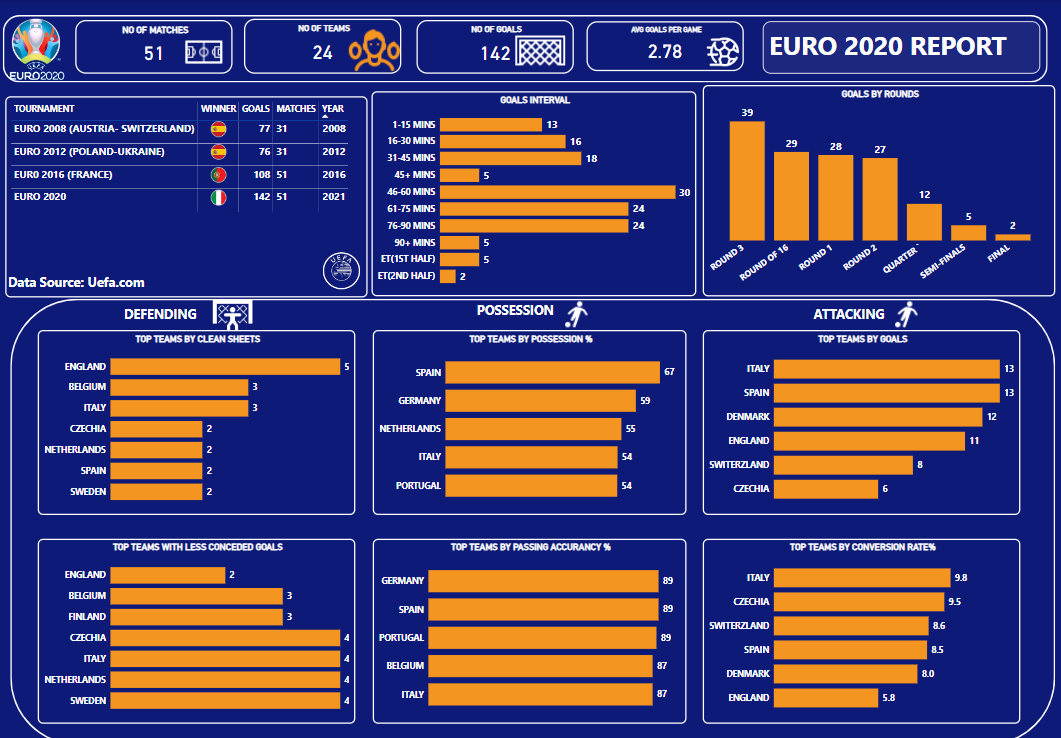

This screenshot's page, from the dashboard's own definition file:
{"tool":"powerbi","page":{"name":"DASHBOARD","canvas":[2000,1400],"ordinal":0},"visuals":[{"type":"shape","box":[7,28.2,1961.1,126.7],"z":0},{"type":"shape","box":[21.1,560.7,1961.1,837.5],"z":1000},{"type":"card","title":"NO OF MATCHES","fields":{"Values":["Count(MATCHES.MATCH ID)"]},"box":[143.1,37.5,295.6,100.9],"z":2000},{"type":"card","title":"NO OF TEAMS","fields":{"Values":["CountNonNull(TEAMS.TEAMS)"]},"box":[459.8,35.2,295.6,103.2],"z":3000},{"type":"card","title":"NO OF GOALS","fields":{"Values":["Sum(MATCHES.GOALS SCORED)"]},"box":[783.5,37.5,295.6,100.9],"z":4000},{"type":"card","title":"AVG  GOALS PER GAME","fields":{"Values":["Avg(MATCHES.GOALS SCORED)"]},"box":[1102.6,39.9,295.6,93.8],"z":5000},{"type":"tableEx","fields":{"Values":["HISTORICAL DATA.TOURNAMENT ","HISTORICAL DATA.WINNER URL","Sum(HISTORICAL DATA.GOALS SCORED)","Sum(HISTORICAL DATA.MATCHES PLAYED)","Sum(HISTORICAL DATA.YEAR)"]},"box":[11.7,181.4,680.3,377.7],"z":6000},{"type":"clusteredBarChart","title":" GOALS INTERVAL","fields":{"Category":["GOALS INTERVAL.INTERVAL"],"Y":["Sum(GOALS INTERVAL.GOALS)"]},"box":[698.3,171.2,609.9,384.7],"z":7000},{"type":"columnChart","title":" GOALS BY ROUNDS","fields":{"Category":["MATCHES.ROUND "],"Y":["Sum(MATCHES.GOALS SCORED)"]},"box":[1320.7,159.5,661.5,396.4],"z":8000},{"type":"clusteredBarChart","title":"TOP TEAMS BY CLEAN SHEETS ","fields":{"Category":["CLEAN SHEET AND GOALS CONCEDED.Countries"],"Y":["Sum(CLEAN SHEET AND GOALS CONCEDED.Clean sheets)"]},"box":[73.6,619.1,595.8,347.2],"z":9000},{"type":"clusteredBarChart","title":"TOP TEAMS WITH LESS CONCEDED GOALS","fields":{"Category":["CLEAN SHEET AND GOALS CONCEDED.Countries"],"Y":["Sum(CLEAN SHEET AND GOALS CONCEDED.Goals conceded)"]},"box":[73.5,1011.1,595.8,347.2],"z":10000},{"type":"clusteredBarChart","title":"TOP TEAMS BY POSSESSION %","fields":{"Category":["Possession.Team"],"Y":["Sum(Possession.Possession)"]},"box":[702.2,619.3,588.8,347.2],"z":11000},{"type":"clusteredBarChart","title":"TOP TEAMS BY PASSING ACCURANCY %","fields":{"Category":["Possession.Team"],"Y":["Sum(Possession.Passing accuracy (%))"]},"box":[702.2,1011.1,588.8,347.2],"z":12000},{"type":"clusteredBarChart","title":"TOP TEAMS BY GOALS","fields":{"Y":["Sum(ATTEMPTS.Goals)"],"Category":["ATTEMPTS.Countries"]},"box":[1321.5,619.3,595.8,347.2],"z":13000},{"type":"clusteredBarChart","title":"TOP TEAMS BY CONVERSION RATE%","fields":{"Category":["ATTEMPTS.Countries"],"Y":["Sum(ATTEMPTS.Conversion Rate)"]},"box":[1321.5,1011.1,595.8,347.2],"z":14000},{"type":"textbox","box":[152.5,567.7,300.3,51.6],"z":15000},{"type":"textbox","box":[818.7,560.7,300.3,51.6],"z":16000},{"type":"textbox","box":[1445,567.7,300.3,51.6],"z":17000},{"type":"image","box":[0,28.2,143.1,131.4],"z":18000},{"type":"textbox","box":[1433.3,39.9,520.8,98.5],"z":19000},{"type":"image","box":[964.1,37.5,103.2,114.9],"z":20000},{"type":"image","box":[344.8,49.3,79.8,96.2],"z":21000},{"type":"image","box":[647.5,32.8,114.9,122],"z":22000},{"type":"image","box":[1323.1,58.6,77.4,77.4],"z":23000},{"type":"image","box":[558.3,422.3,168.9,171.2],"z":24000},{"type":"textbox","box":[11.7,509.1,520.8,44.6],"z":25000},{"type":"image","box":[1665.6,560.7,72.7,58.6],"z":26000},{"type":"image","box":[1046.3,560.7,72.7,58.6],"z":27000},{"type":"image","box":[396.4,548.9,84.5,84.5],"z":28000}]}

Visuals, with their boxes in screenshot pixels (x1, y1, x2, y2), scaled from the page's 2000x1400 canvas onto the 1061x738 screenshot:
shape: [x1=4, y1=15, x2=1044, y2=82]
shape: [x1=11, y1=296, x2=1052, y2=737]
"NO OF MATCHES" card: [x1=76, y1=20, x2=233, y2=73]
"NO OF TEAMS" card: [x1=244, y1=19, x2=401, y2=73]
"NO OF GOALS" card: [x1=416, y1=20, x2=572, y2=73]
"AVG  GOALS PER GAME" card: [x1=585, y1=21, x2=742, y2=70]
tableEx - HISTORICAL DATA.TOURNAMENT  x HISTORICAL DATA.WINNER URL: [x1=6, y1=96, x2=367, y2=295]
" GOALS INTERVAL" clusteredBarChart: [x1=370, y1=90, x2=694, y2=293]
" GOALS BY ROUNDS" columnChart: [x1=701, y1=84, x2=1052, y2=293]
"TOP TEAMS BY CLEAN SHEETS " clusteredBarChart: [x1=39, y1=326, x2=355, y2=509]
"TOP TEAMS WITH LESS CONCEDED GOALS" clusteredBarChart: [x1=39, y1=533, x2=355, y2=716]
"TOP TEAMS BY POSSESSION %" clusteredBarChart: [x1=373, y1=326, x2=685, y2=509]
"TOP TEAMS BY PASSING ACCURANCY %" clusteredBarChart: [x1=373, y1=533, x2=685, y2=716]
"TOP TEAMS BY GOALS" clusteredBarChart: [x1=701, y1=326, x2=1017, y2=509]
"TOP TEAMS BY CONVERSION RATE%" clusteredBarChart: [x1=701, y1=533, x2=1017, y2=716]
textbox: [x1=81, y1=299, x2=240, y2=326]
textbox: [x1=434, y1=296, x2=594, y2=323]
textbox: [x1=767, y1=299, x2=926, y2=326]
image: [x1=0, y1=15, x2=76, y2=84]
textbox: [x1=760, y1=21, x2=1037, y2=73]
image: [x1=511, y1=20, x2=566, y2=80]
image: [x1=183, y1=26, x2=225, y2=77]
image: [x1=343, y1=17, x2=404, y2=82]
image: [x1=702, y1=31, x2=743, y2=72]
image: [x1=296, y1=223, x2=386, y2=313]
textbox: [x1=6, y1=268, x2=282, y2=292]
image: [x1=884, y1=296, x2=922, y2=326]
image: [x1=555, y1=296, x2=594, y2=326]
image: [x1=210, y1=289, x2=255, y2=334]
